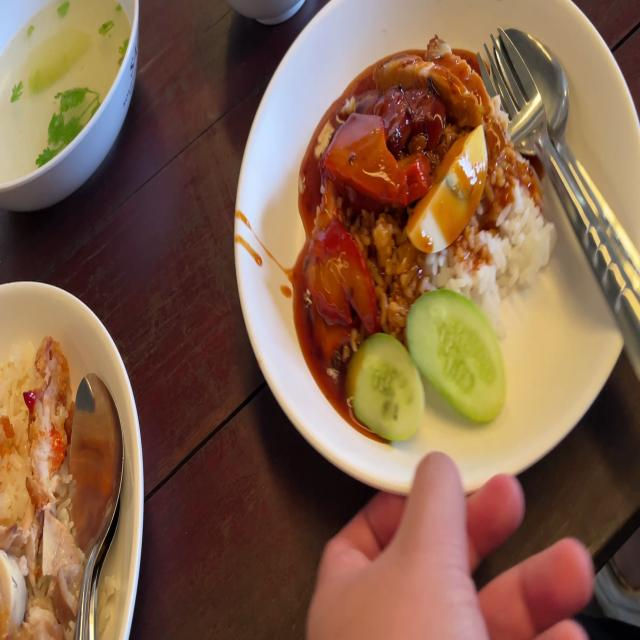boiled_chicken: (0, 507, 78, 640)
boiled_egg: (409, 126, 488, 252)
chainese_sausage: (357, 70, 441, 150)
chicken_rice: (0, 339, 99, 640)
crispy_pork: (401, 36, 505, 150)
cucumber: (406, 284, 502, 429), (345, 330, 427, 446)
fried_chicken: (19, 334, 72, 507)
red_pork: (323, 105, 428, 200), (306, 220, 374, 356)
red_pork_and_crispy_pork: (305, 39, 558, 438)
